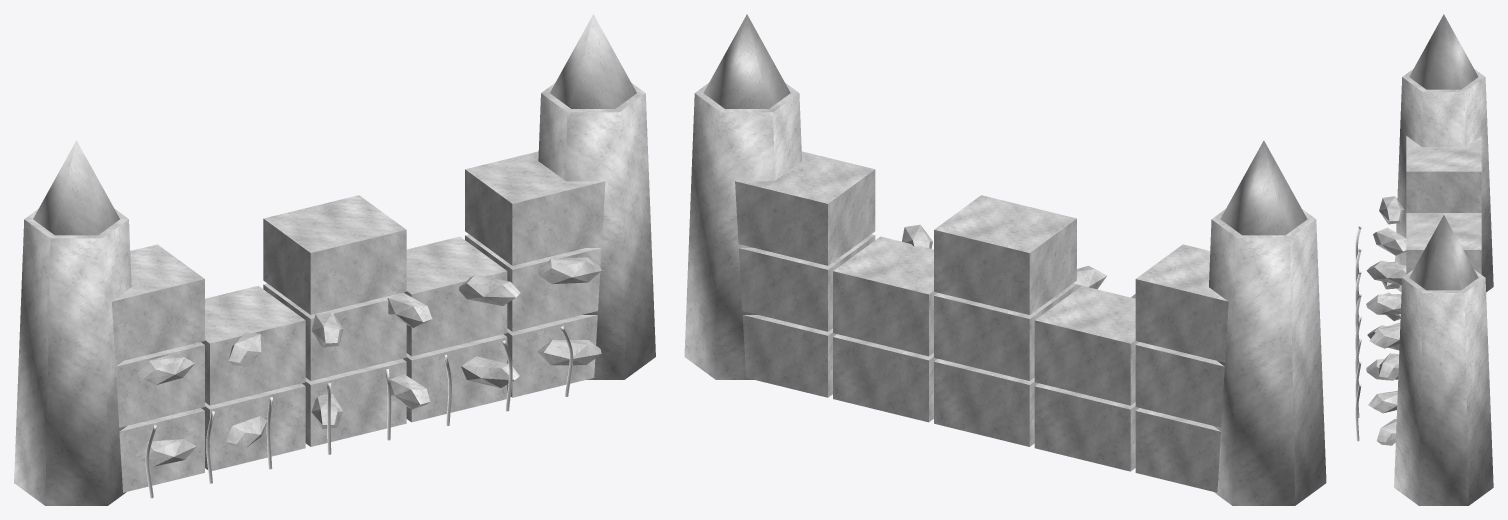
The model's file is ruin_wall.gltf.
3 views of the same model, side by side, from view 1: azimuth 30°, elevation 25°; view 2: azimuth 150°, elevation 25°; view 3: azimuth 270°, elevation 25° (orthographic). The views are drawn at different scales.
Visible parts, largest first — view 1: ruin_wall; view 2: ruin_wall; view 3: ruin_wall.
Boxes of the visible parts, x1=… form: ruin_wall: x1=14, y1=14, x2=655, y2=505; ruin_wall: x1=684, y1=14, x2=1326, y2=505; ruin_wall: x1=1355, y1=14, x2=1493, y2=505.
Bounding box in the file's own units: 4.84 × 2.6 × 1.19.
3 materials, 3 textured.
